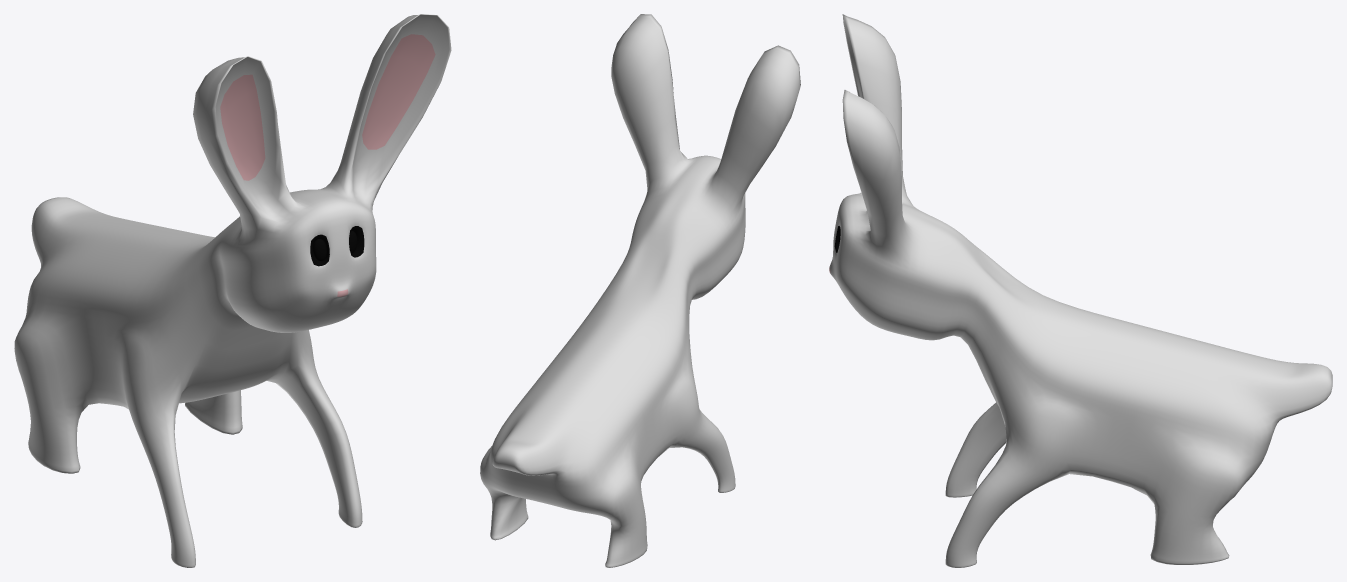
The model's file is zuikutis.glb.
3 renders of one model, left to right at view 1: azimuth 30°, elevation 25°; view 2: azimuth 150°, elevation 25°; view 3: azimuth 270°, elevation 25°, orthographic. The views are drawn at different scales.
Visible parts, largest first — view 1: Animal01; view 2: Animal01; view 3: Animal01.
Boxes of the visible parts, x1,y1,x2,y2 form: Animal01: (14,14,451,567); Animal01: (480,14,800,567); Animal01: (829,14,1332,567).
Size of the model in its own units: 1.77 by 3.86 by 3.69.
